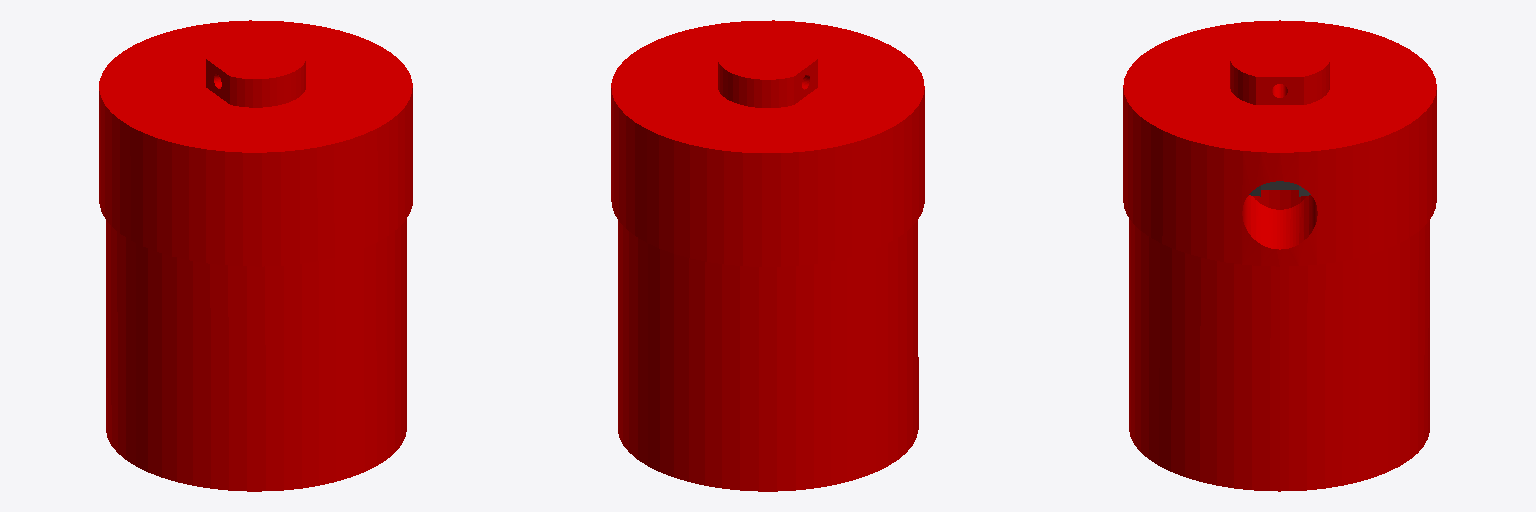
URDF robot description (linkage):
<robot name = "linkage">
    <!-- links section -->>
 <link name = "base">
      <inertial>
         <origin xyz = "0 0 0" rpy="0 0 0"/>
         <mass value = "0.5" />
         <inertia ixx="0.5" iyy="0.5" izz="0.5" ixy="0" ixz="0" iyz="0" />
      </inertial>
      <visual>
        <origin xyz = "0 0 0" />
        <geometry>
            <mesh filename="./armSTL_1211/base.STL"  />
        </geometry>
        <material name = "gray C">
            <color rgba = "0.5 0.5 0.5 1" />
        </material>
     </visual>
    </link>
  <link name = "link1">
      <inertial>
         <origin xyz = "0 0 0" rpy="0 0 0"/>
         <mass value = "0.5" />
         <inertia ixx="0.5" iyy="0.5" izz="0.5" ixy="0" ixz="0" iyz="0" />
      </inertial>
      <visual>
            <origin xyz = "0 0 0" rpy="0 0 0"/>
            <geometry>
                <mesh filename="./armSTL_1211/link1.STL" />
            </geometry>
            <material name = "gray A">
                <color rgba = "0.1 0.1 0.1 1" />
            </material>
      </visual>
    </link>

    <link name = "link2">
      <inertial>
         <origin xyz = "0 0 0" rpy="0 0 0"/>
         <mass value = "0.5" />
         <inertia ixx="0.5" iyy="0.5" izz="0.5" ixy="0" ixz="0" iyz="0" />
      </inertial>
      <visual>
            <origin xyz = "0 0 0" rpy="0 0 0"/>
            <geometry>
                <mesh filename="./armSTL_1211/link2.STL" />
            </geometry>
            <material name = "gray B">
                <color rgba = "0.3 0.3 0.3 1" />
            </material>
      </visual>
    </link>

<link name = "link3">
    <inertial>
        <origin xyz = "0 0 0" rpy="0 0 0"/>
        <mass value = "0.5" />
        <inertia ixx="0.5" iyy="0.5" izz="0.5" ixy="0" ixz="0" iyz="0" />
    </inertial>
    <visual>
         <origin xyz = "0 0 0" rpy="0 0 0"/>
         <geometry>
                <mesh filename="./armSTL_1211/link3.STL" />
            </geometry>
            <material name = "gray B">
                <color rgba = "1 0.3 0.3 1" />
            </material>
    </visual>
    </link>

<link name = "link4">
      <inertial>
         <origin xyz = "0 0 0" rpy="0 0 0"/>
         <mass value = "0.5" />
         <inertia ixx="0.5" iyy="0.5" izz="0.5" ixy="0" ixz="0" iyz="0" />
      </inertial>
      <visual>
            <origin xyz = "0 0 0" rpy="0 0 0"/>
            <geometry>
                <mesh filename="./armSTL_1211/link4.STL" />
            </geometry>
            <material name = "gray B">
                <color rgba = "0.3 0.3 0.3 1" />
            </material>
      </visual>
    </link>


<link name = "link5">
      <inertial>
         <origin xyz = "0 0 0" rpy="0 0 0"/>
         <mass value = "0.5" />
         <inertia ixx="0.5" iyy="0.5" izz="0.5" ixy="0" ixz="0" iyz="0" />
      </inertial>
      <visual>
           <origin xyz = "0 0 0" rpy="0 0 0"/>
            <geometry>
                <mesh filename="./armSTL_1211/link5.STL" />
            </geometry>
            <material name = "gray B">
                <color rgba = "0.3 0.3 0.3 1" />
            </material>
      </visual>
    </link>

<link name = "link6">
        <visual>
            <origin xyz = "0 0 0" rpy="0 0 0"/>
            <geometry>
                <mesh filename="./armSTL_1211/link6.STL" />
            </geometry>
            <material name = "gray B">
                <color rgba = "0.3 0.3 0.3 1" />
            </material>
        </visual>
    </link>

  <link name = "tool">
      <inertial>
         <origin xyz = "0 0 0" rpy="0 0 0"/>
         <mass value = "0.5" />
         <inertia ixx="0.5" iyy="0.5" izz="0.5" ixy="0" ixz="0" iyz="0" />
      </inertial>
      <visual>
            <origin xyz = "0 0 0" rpy="0 0 0"/>
            <geometry>
                <mesh filename="./armSTL_1211/tool.STL" />
            </geometry>
            <material name = "red C">
                <color rgba = "0.9 0. 0. 1" />
            </material>
      </visual>
    </link>

<!-- joints section -->>
    <joint name = "joint1" type = "continuous">
        <parent link = "base" />
        <child link = "link1" />
        <origin xyz = "0 0 0.270" />
        <axis xyz = "0 0 1" />
    </joint>
    <joint name = "joint2" type = "continuous">
        <parent link = "link1" />
        <child link = "link2" />
        <origin xyz = "0 0 0" rpy="1.57 0 0"/>
        <axis xyz = "0 0 1" />
    </joint>
    <joint name = "joint3" type = "continuous">
        <parent link = "link2" />
        <child link = "link3" />
        <origin xyz = "0.13 0 0" rpy="0 0 -1.57"/>
        <axis xyz = "0 0 1" />
    </joint>
    <joint name = "joint4" type = "continuous">
        <parent link = "link3" />
        <child link = "link4" />
        <origin xyz = "0.18 0 0" rpy=" 0 1.57 0"/>
        <axis xyz = "0 0 1" />
    </joint>
    <joint name = "joint5" type = "continuous">
        <parent link = "link4" />
        <child link = "link5" />
        <origin xyz = "0 0 0" rpy="0 -1.57 0" />
        <axis xyz = "0 0 1" />
    </joint>
    <joint name = "joint6" type = "continuous">
        <parent link = "link5" />
        <child link = "link6" />
        <origin xyz = "0 0 0" rpy="0 1.57 0"/>
        <axis xyz = "0 0 1" />
    </joint>
    <joint name = "fix1" type = "fixed">
        <parent link = "link6" />
        <child link = "tool" />
        <origin xyz = "0 0 0.09" rpy="0 0 0" />
        <axis xyz = "0 0 1" />
    </joint>
</robot>

--- Facts derived from the render (not from the file) ---
3 views of the same robot in one strip: view 1: azimuth 30°, elevation 25°; view 2: azimuth 150°, elevation 25°; view 3: azimuth 270°, elevation 25° (orthographic).
Robot: linkage — 8 links, 7 joints (6 continuous, 1 fixed); root link base; default pose: every joint at zero.
Links seen in each view (by area): view 1: tool; view 2: tool; view 3: tool.
Link boxes in pixels (left/top/right/bottom): tool: left=99, top=20, right=412, bottom=491; tool: left=611, top=20, right=924, bottom=491; tool: left=1123, top=20, right=1436, bottom=491.
Size in the robot's own frame: 0.05 by 0.05 by 0.0651 metres.
Meshes: 8 distinct files referenced, 2 mesh visuals loaded (2 binary STL); not drawn: 6 (reference not matched to a file when rendering).